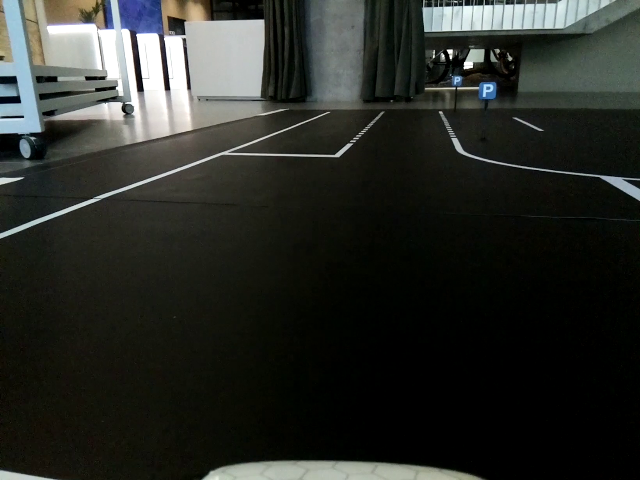park: (478, 83, 496, 99), (453, 76, 462, 86)
